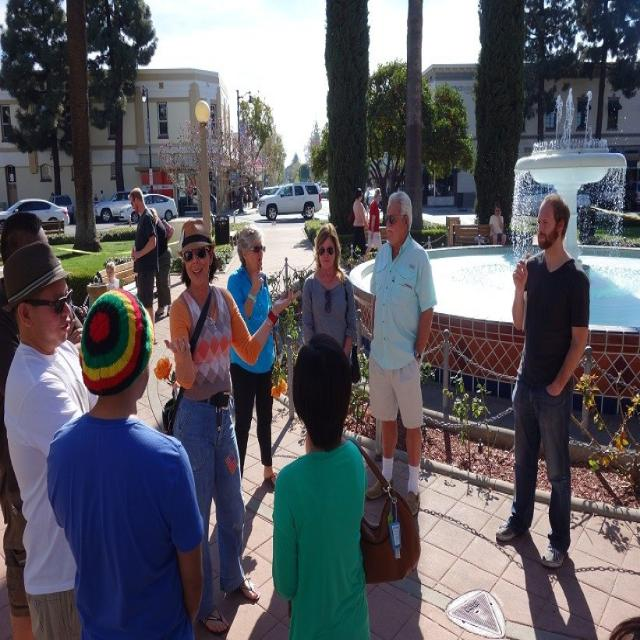body: (42, 285, 215, 639), (164, 215, 303, 635), (263, 326, 425, 639), (1, 237, 99, 640), (0, 206, 90, 640), (493, 190, 591, 570), (362, 188, 440, 522), (226, 222, 282, 490), (506, 533, 640, 640), (299, 220, 360, 386), (0, 185, 266, 209), (128, 182, 159, 348), (149, 205, 174, 319), (153, 218, 175, 302), (364, 187, 384, 261), (352, 187, 369, 260), (487, 202, 508, 245), (105, 259, 120, 291)
